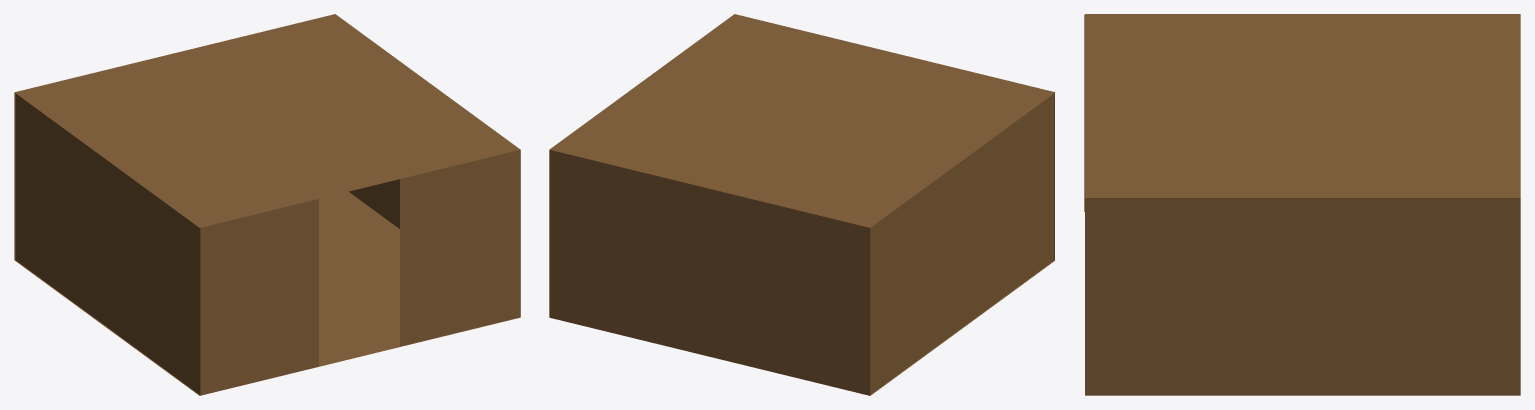
File: room.fbx
3 renders of one model, left to right at view 1: azimuth 30°, elevation 25°; view 2: azimuth 150°, elevation 25°; view 3: azimuth 270°, elevation 25°, orthographic. The views are drawn at different scales.
Parts seen in each view (by area): view 1: room_ceiling, room_wall2, room_wall3, room_wall5, room_floor, room_wall4; view 2: room_ceiling, room_wall1, room_wall2; view 3: room_wall4, room_ceiling.
Part boxes in pixels (x1,y1,x2,y2): room_ceiling: [15, 14, 519, 227]; room_wall2: [15, 93, 200, 395]; room_wall3: [200, 199, 318, 395]; room_wall5: [400, 150, 519, 346]; room_floor: [15, 191, 519, 395]; room_wall4: [349, 149, 520, 317]; room_ceiling: [550, 14, 1054, 227]; room_wall1: [549, 149, 870, 395]; room_wall2: [870, 93, 1054, 394]; room_wall4: [1085, 198, 1520, 395]; room_ceiling: [1085, 14, 1520, 197].
Size of the model in its own units: 20 by 10.03 by 20.04.
